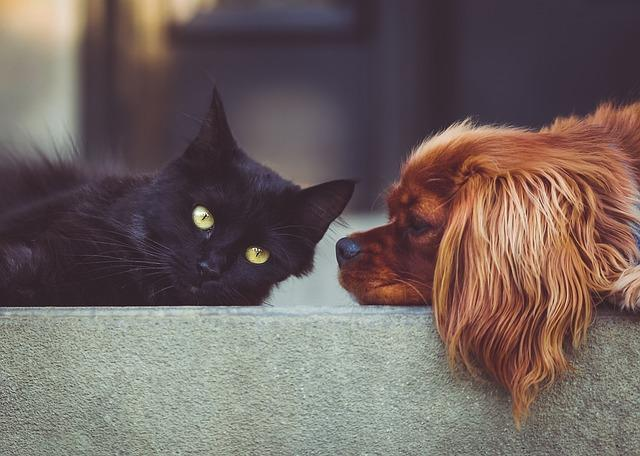Non_Gorille: (31, 23, 640, 434)
